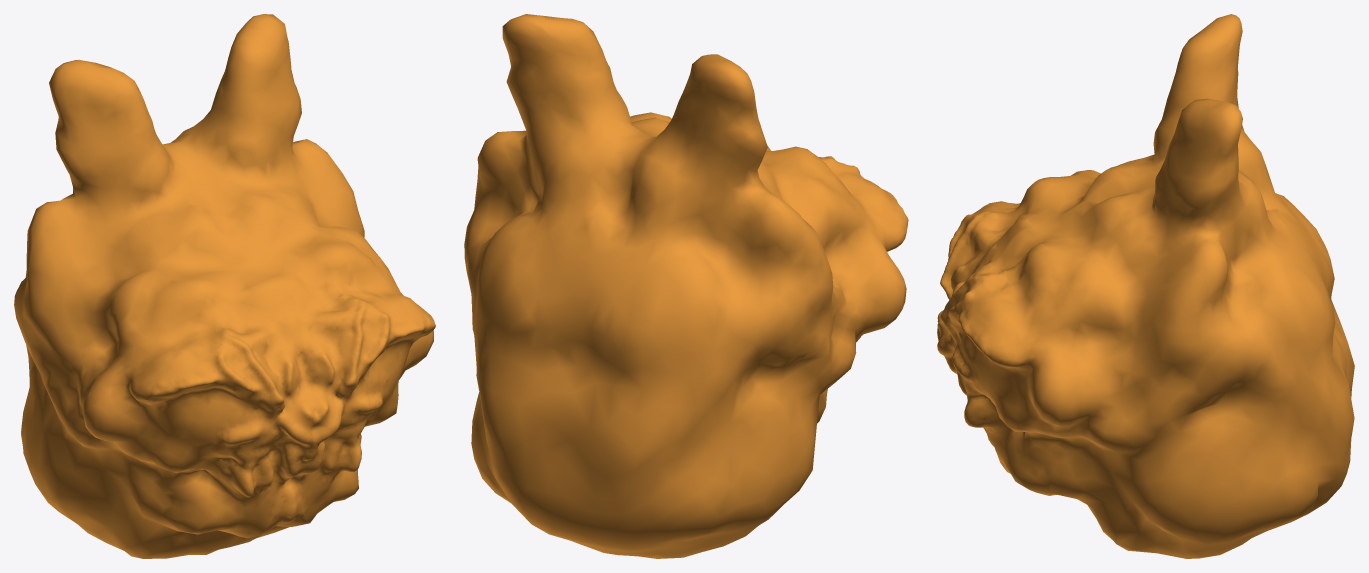
The model's file is blobject3.gltf.
3 views of the same model, side by side, from view 1: azimuth 30°, elevation 25°; view 2: azimuth 150°, elevation 25°; view 3: azimuth 270°, elevation 25° (orthographic). The views are drawn at different scales.
Visible parts, largest first — view 1: Quad Sphere; view 2: Quad Sphere; view 3: Quad Sphere.
Boxes of the visible parts, box(x1,y1,x2,y2) form: Quad Sphere: box(14, 14, 435, 558); Quad Sphere: box(464, 14, 908, 558); Quad Sphere: box(937, 14, 1354, 558).
Bounding box in the file's own units: 3.04 × 4.12 × 3.27.
